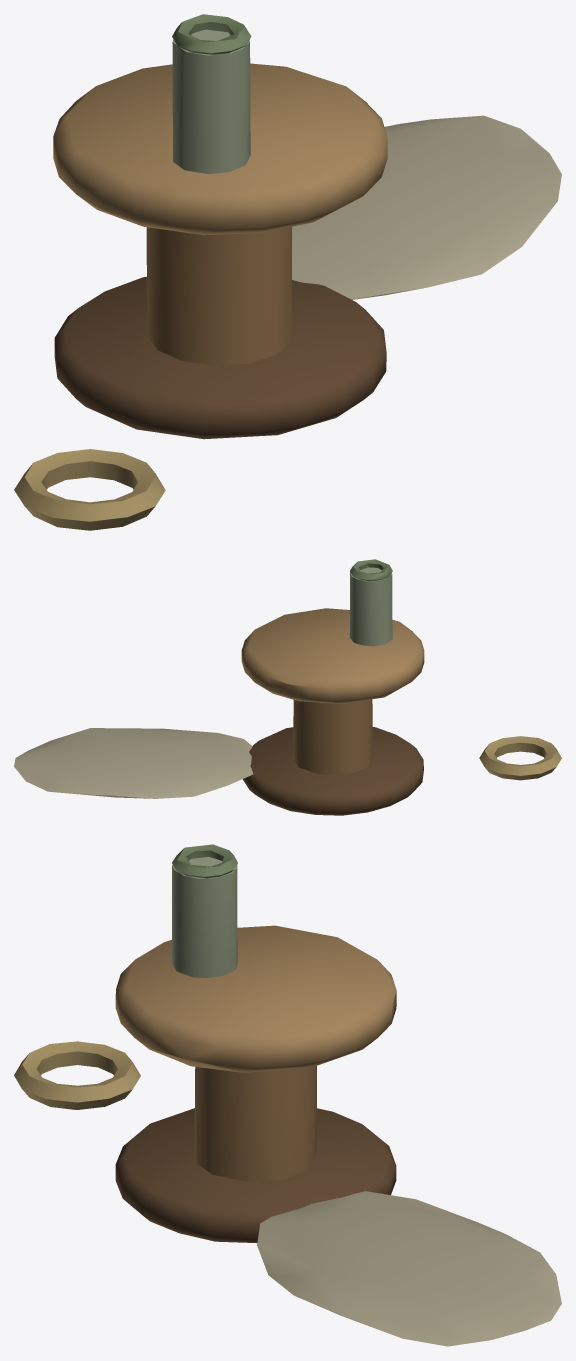
Rendered from watch_stool_c_lod1.glb.
3 views of the same model, one above another, from view 1: azimuth 30°, elevation 25°; view 2: azimuth 150°, elevation 25°; view 3: azimuth 270°, elevation 25° (orthographic). The views are drawn at different scales.
Parts seen in each view (by area): view 1: Surface.001; view 2: Surface.001; view 3: Surface.001.
Boxes of the visible parts, box(x1,y1,x2,y2) form: Surface.001: box(14, 14, 561, 530); Surface.001: box(14, 559, 561, 815); Surface.001: box(14, 844, 561, 1346).
Size of the model in its own units: 2.83 by 1.37 by 2.15.
